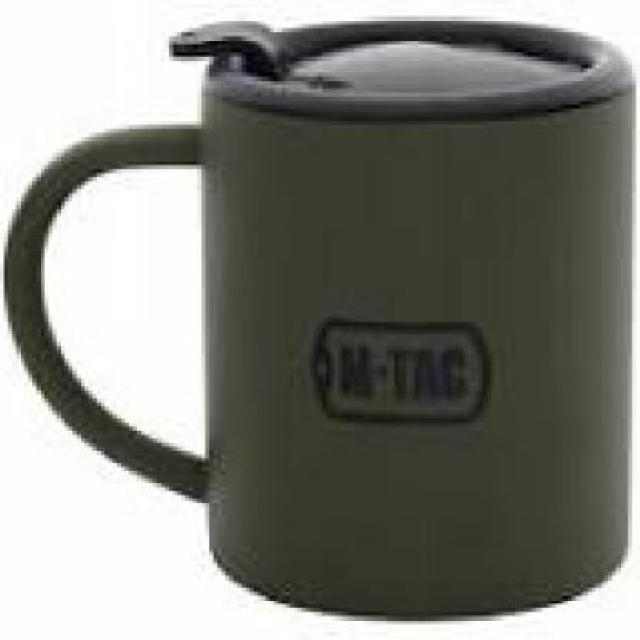cup: (3, 0, 637, 637)
